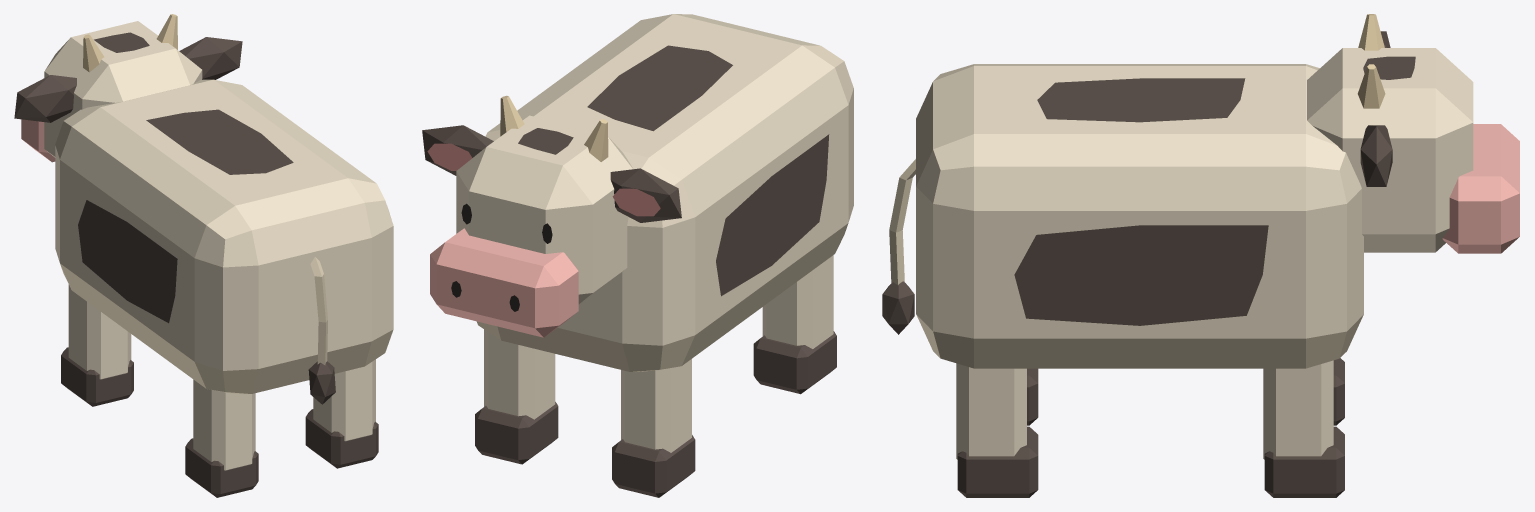
The model's file is Cow.fbx.
The picture shows the model from 3 angles, left to right: view 1: azimuth 30°, elevation 25°; view 2: azimuth 150°, elevation 25°; view 3: azimuth 270°, elevation 25°; orthographic projection. The views are drawn at different scales.
Visible parts, largest first — view 1: Body, Skull, Limb_BL, Limb_FL, Limb_BR, EarShape_L, Hoof_BR, Hoof_BL, Hoof_FL, EarShape_R, TailStem, TailTuft (+3 smaller); view 2: Body, Skull, Muzzle, Limb_FL, Limb_FR, Limb_BL, Hoof_BL, Hoof_FL, Hoof_FR, EarShape_L, EarShape_R, EarInner_L (+3 smaller); view 3: Body, Skull, Muzzle, Limb_FR, Limb_BR, Hoof_BR, Hoof_FR, EarShape_R, TailStem, TailTuft, Horn_R, Hoof_FL.
Part boxes in pixels (<box>): Body: <box>55,79,393,394</box>; Skull: <box>44,21,202,157</box>; Limb_BL: <box>193,379,255,470</box>; Limb_FL: <box>68,284,131,379</box>; Limb_BR: <box>313,359,375,441</box>; EarShape_L: <box>14,75,76,122</box>; Hoof_BR: <box>305,409,378,468</box>; Hoof_BL: <box>185,438,258,497</box>; Hoof_FL: <box>61,347,133,406</box>; EarShape_R: <box>179,37,242,79</box>; TailStem: <box>310,257,327,365</box>; TailTuft: <box>308,361,335,404</box>; Body: <box>476,14,853,371</box>; Skull: <box>456,115,633,305</box>; Muzzle: <box>430,228,578,337</box>; Limb_FL: <box>621,359,691,452</box>; Limb_FR: <box>484,329,555,419</box>; Limb_BL: <box>762,255,833,348</box>; Hoof_BL: <box>753,331,836,394</box>; Hoof_FL: <box>612,435,695,497</box>; Hoof_FR: <box>475,402,558,464</box>; EarShape_L: <box>610,168,681,222</box>; EarShape_R: <box>422,125,493,175</box>; EarInner_L: <box>612,188,660,216</box>; Body: <box>916,64,1363,368</box>; Skull: <box>1307,48,1473,252</box>; Muzzle: <box>1442,124,1519,253</box>; Limb_FR: <box>1263,360,1333,459</box>; Limb_BR: <box>956,363,1026,459</box>; Hoof_BR: <box>957,426,1038,497</box>; Hoof_FR: <box>1264,426,1344,497</box>; EarShape_R: <box>1360,125,1392,186</box>; TailStem: <box>889,159,915,284</box>; TailTuft: <box>882,281,914,334</box>; Horn_R: <box>1357,64,1385,108</box>; Hoof_FL: <box>1333,358,1344,425</box>.
Bounding box in the file's own units: 1.29 × 1.8 × 2.54.
